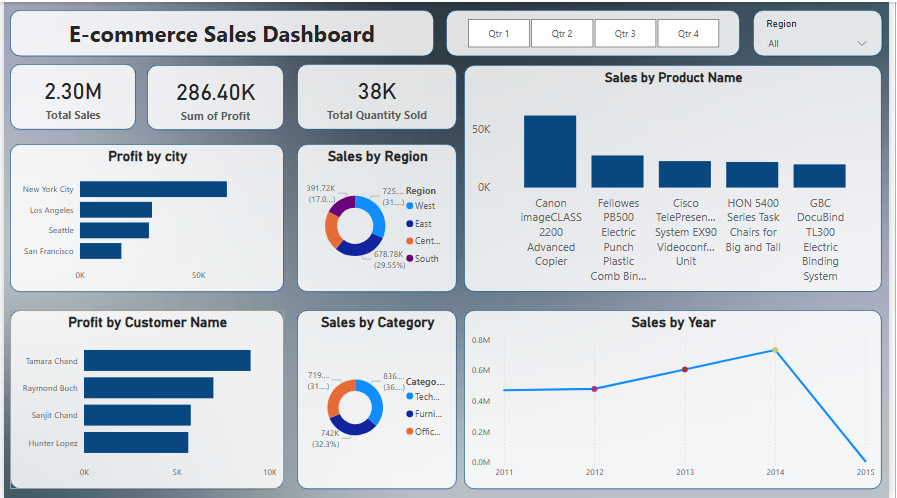

What the dashboard file says about the page in this screenshot:
{"tool":"powerbi","page":{"name":"Page 1","canvas":[1280,720],"ordinal":0},"visuals":[{"type":"textbox","box":[8.7,11.6,613,66.5],"z":6000},{"type":"columnChart","title":"Sales by Product Name","fields":{"Category":["Orders.Product Name"],"Y":["Sum(Orders.Sales)"]},"box":[665.1,91.1,604.3,328.2],"z":6001},{"type":"lineChart","title":"Sales by Year","fields":{"Category":["Orders.Ship Date.Variation.Date Hierarchy.Year"],"Y":["Sum(Orders.Sales)"]},"box":[665.1,445.3,604.3,258.8],"z":6002},{"type":"donutChart","title":"Sales by Category","fields":{"Category":["Orders.Category"],"Y":["Sum(Orders.Sales)"]},"box":[423.6,445.3,231.3,258.8],"z":6003},{"type":"donutChart","title":"Sales by Region","fields":{"Y":["Sum(Orders.Sales)"],"Category":["Orders.Region"]},"box":[423.6,205.3,231.3,214],"z":6004},{"type":"card","fields":{"Values":["Sum(Orders.Sales)"]},"box":[8.7,89.6,182.2,95.4],"z":6005},{"type":"card","fields":{"Values":["Sum(Orders.Profit)"]},"box":[206.7,91.1,198.1,94],"z":6006},{"type":"card","fields":{"Values":["Sum(Orders.Quantity)"]},"box":[423.6,89.6,231.3,95.4],"z":6007},{"type":"slicer","fields":{"Values":["Orders.Ship Date.Variation.Date Hierarchy.Quarter"]},"box":[639,11.6,425.1,66.5],"z":6008},{"type":"slicer","fields":{"Values":["Orders.Region"]},"box":[1082.9,11.6,186.5,66.5],"z":6009},{"type":"barChart","title":"Profit by Customer Name","fields":{"Category":["Orders.Customer Name"],"Y":["Sum(Orders.Profit)"]},"box":[8.7,445.3,396.1,258.8],"z":6010},{"type":"barChart","title":"Profit by city","fields":{"Category":["Orders.City"],"Y":["Sum(Orders.Profit)"]},"box":[8.7,205.3,396.1,214],"z":6011}]}

Visuals, with their boxes in screenshot pixels (x1, y1, x2, y2), scaled from the page's 1280x720 canvas onto the 897x498 screenshot:
textbox: 6 8 436 54
"Sales by Product Name" columnChart: 466 63 890 290
"Sales by Year" lineChart: 466 308 890 487
"Sales by Category" donutChart: 297 308 459 487
"Sales by Region" donutChart: 297 142 459 290
card - Sum(Orders.Sales): 6 62 134 128
card - Sum(Orders.Profit): 145 63 284 128
card - Sum(Orders.Quantity): 297 62 459 128
slicer - Orders.Ship Date.Variation.Date Hierarchy.Quarter: 448 8 746 54
slicer - Orders.Region: 759 8 890 54
"Profit by Customer Name" barChart: 6 308 284 487
"Profit by city" barChart: 6 142 284 290
